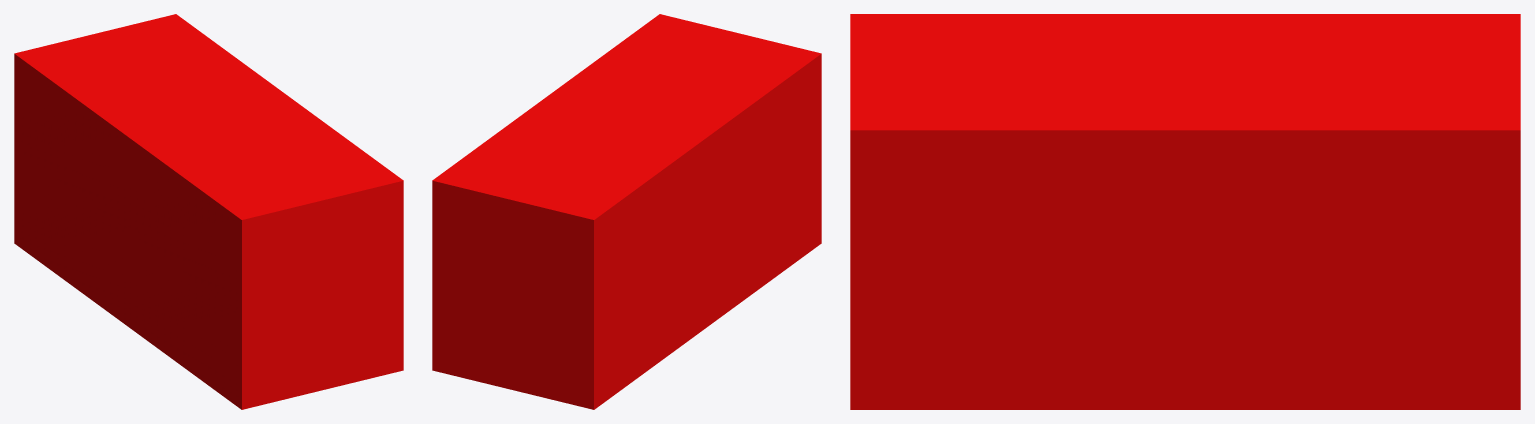
The model's file is fingers10_col.dae.
The picture shows the model from 3 angles, left to right: view 1: azimuth 30°, elevation 25°; view 2: azimuth 150°, elevation 25°; view 3: azimuth 270°, elevation 25°; orthographic projection. The views are drawn at different scales.
Visible parts, largest first — view 1: node0; view 2: node0; view 3: node0.
Part boxes in pixels (box(x1,y1,x2,y2)): node0: box(14, 14, 403, 409); node0: box(432, 14, 821, 409); node0: box(850, 14, 1520, 409).
Size of the model in its own units: 0.0134 by 0.015 by 0.0326.
